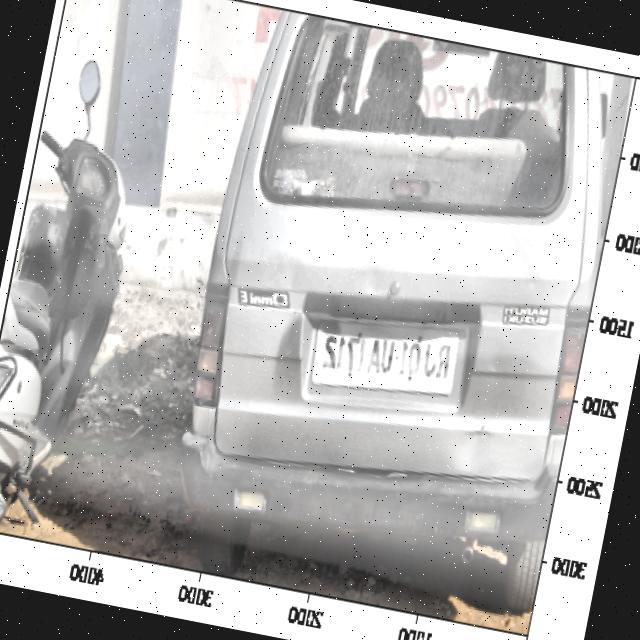license_plate: (313, 314, 460, 402)
